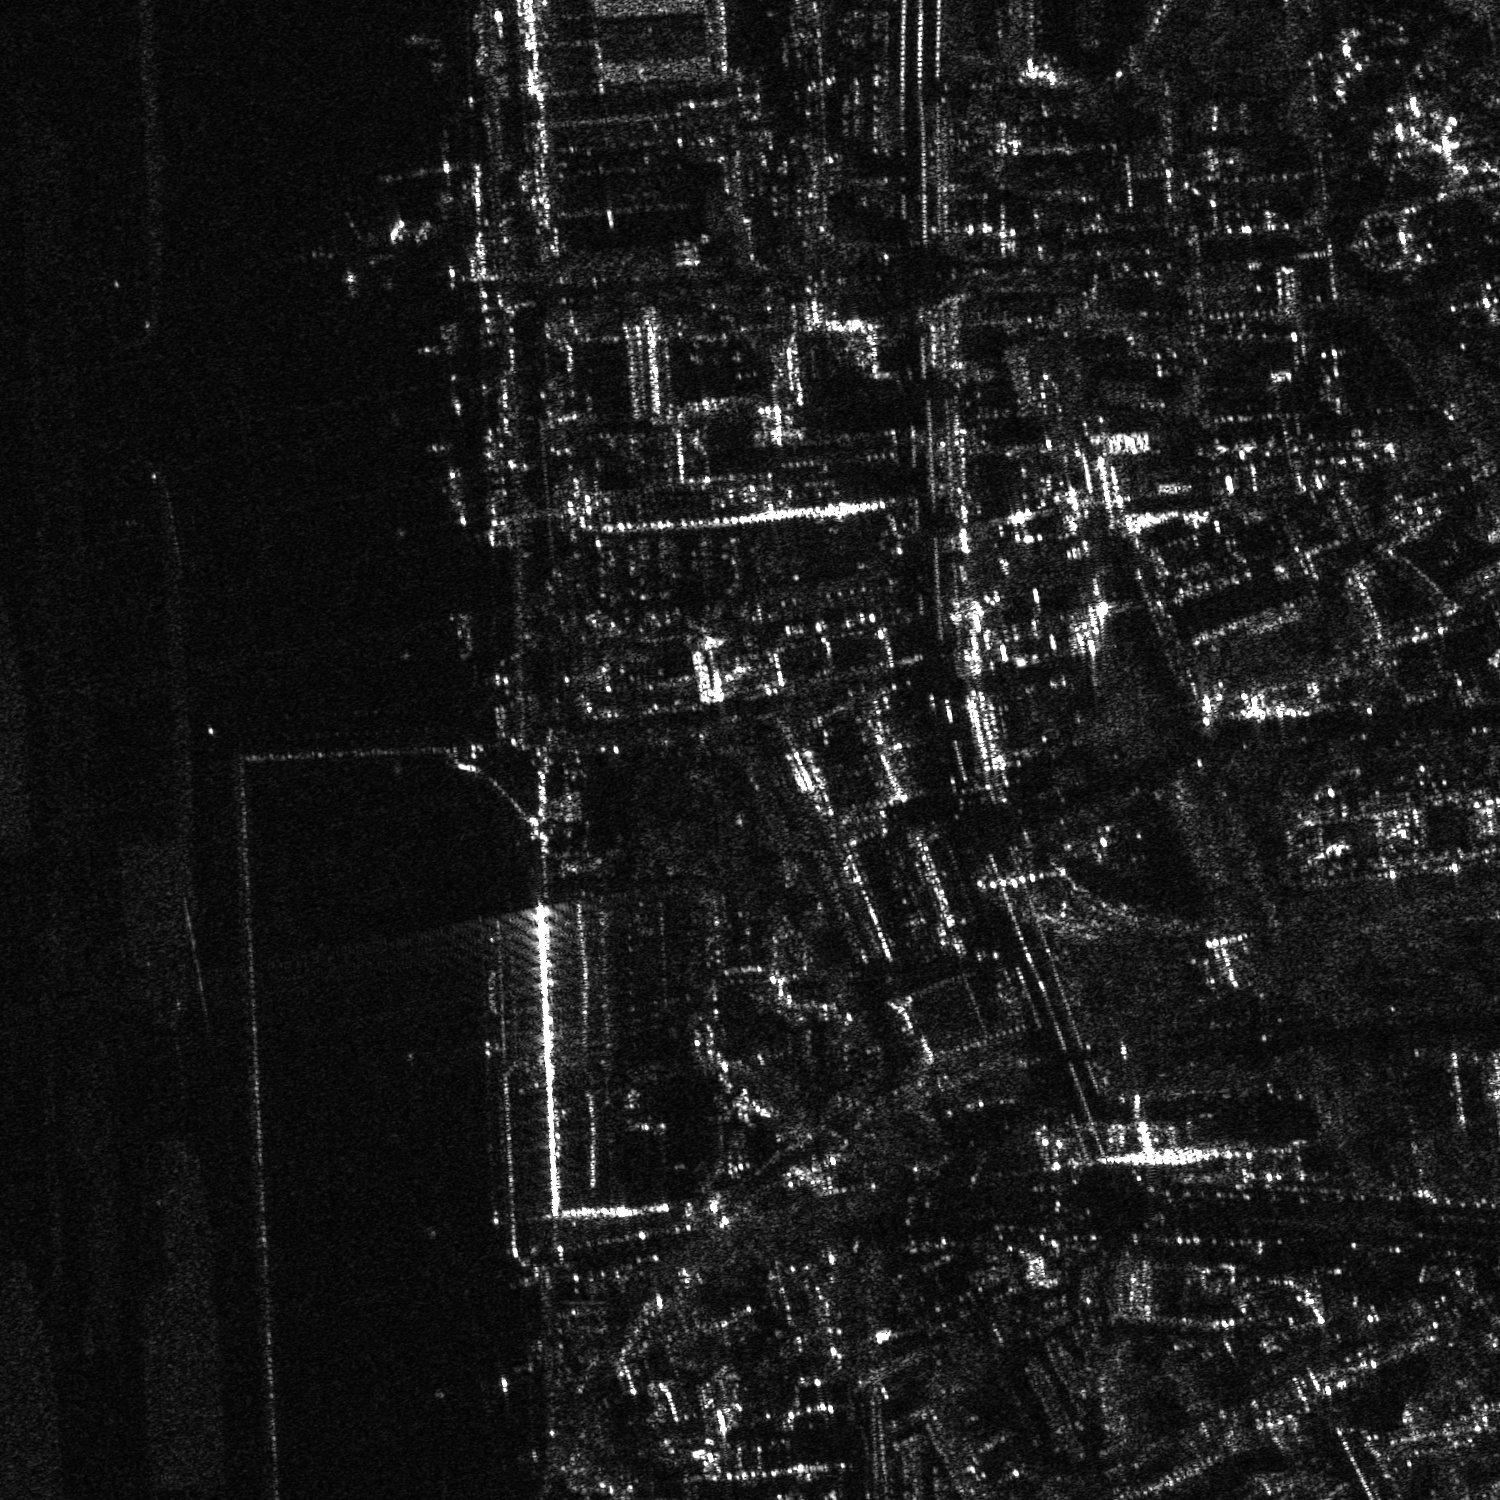A220: (293, 201, 427, 305)
